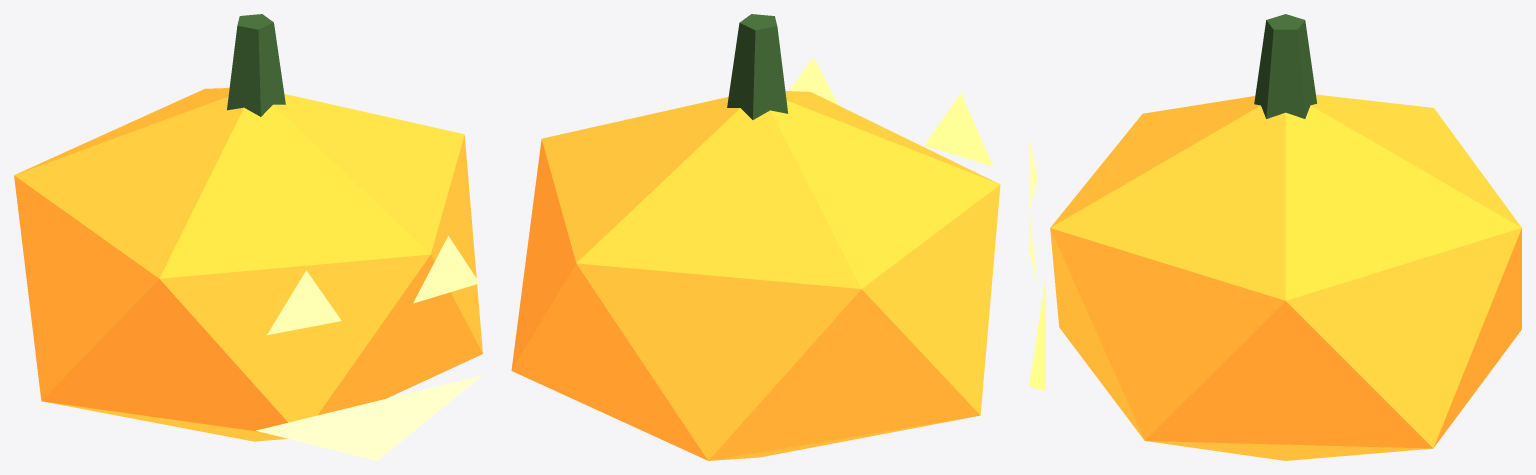
File: pumpkin.glb
3 renders of one model, left to right at view 1: azimuth 30°, elevation 25°; view 2: azimuth 150°, elevation 25°; view 3: azimuth 270°, elevation 25°, orthographic. The views are drawn at different scales.
Visible parts, largest first — view 1: Body, Face, Stem; view 2: Body, Stem, Face; view 3: Body, Stem, Face.
Part boxes in pixels (left/top/right/bottom): Body: left=14, top=88, right=482, bottom=441; Face: left=256, top=236, right=482, bottom=460; Stem: left=227, top=14, right=285, bottom=116; Body: left=511, top=91, right=1000, bottom=460; Stem: left=727, top=14, right=788, bottom=119; Face: left=789, top=57, right=996, bottom=272; Body: left=1050, top=94, right=1521, bottom=460; Stem: left=1254, top=14, right=1316, bottom=118; Face: left=1029, top=135, right=1045, bottom=390.
Bounding box in the file's own units: 0.596 × 0.5652 × 0.576.
